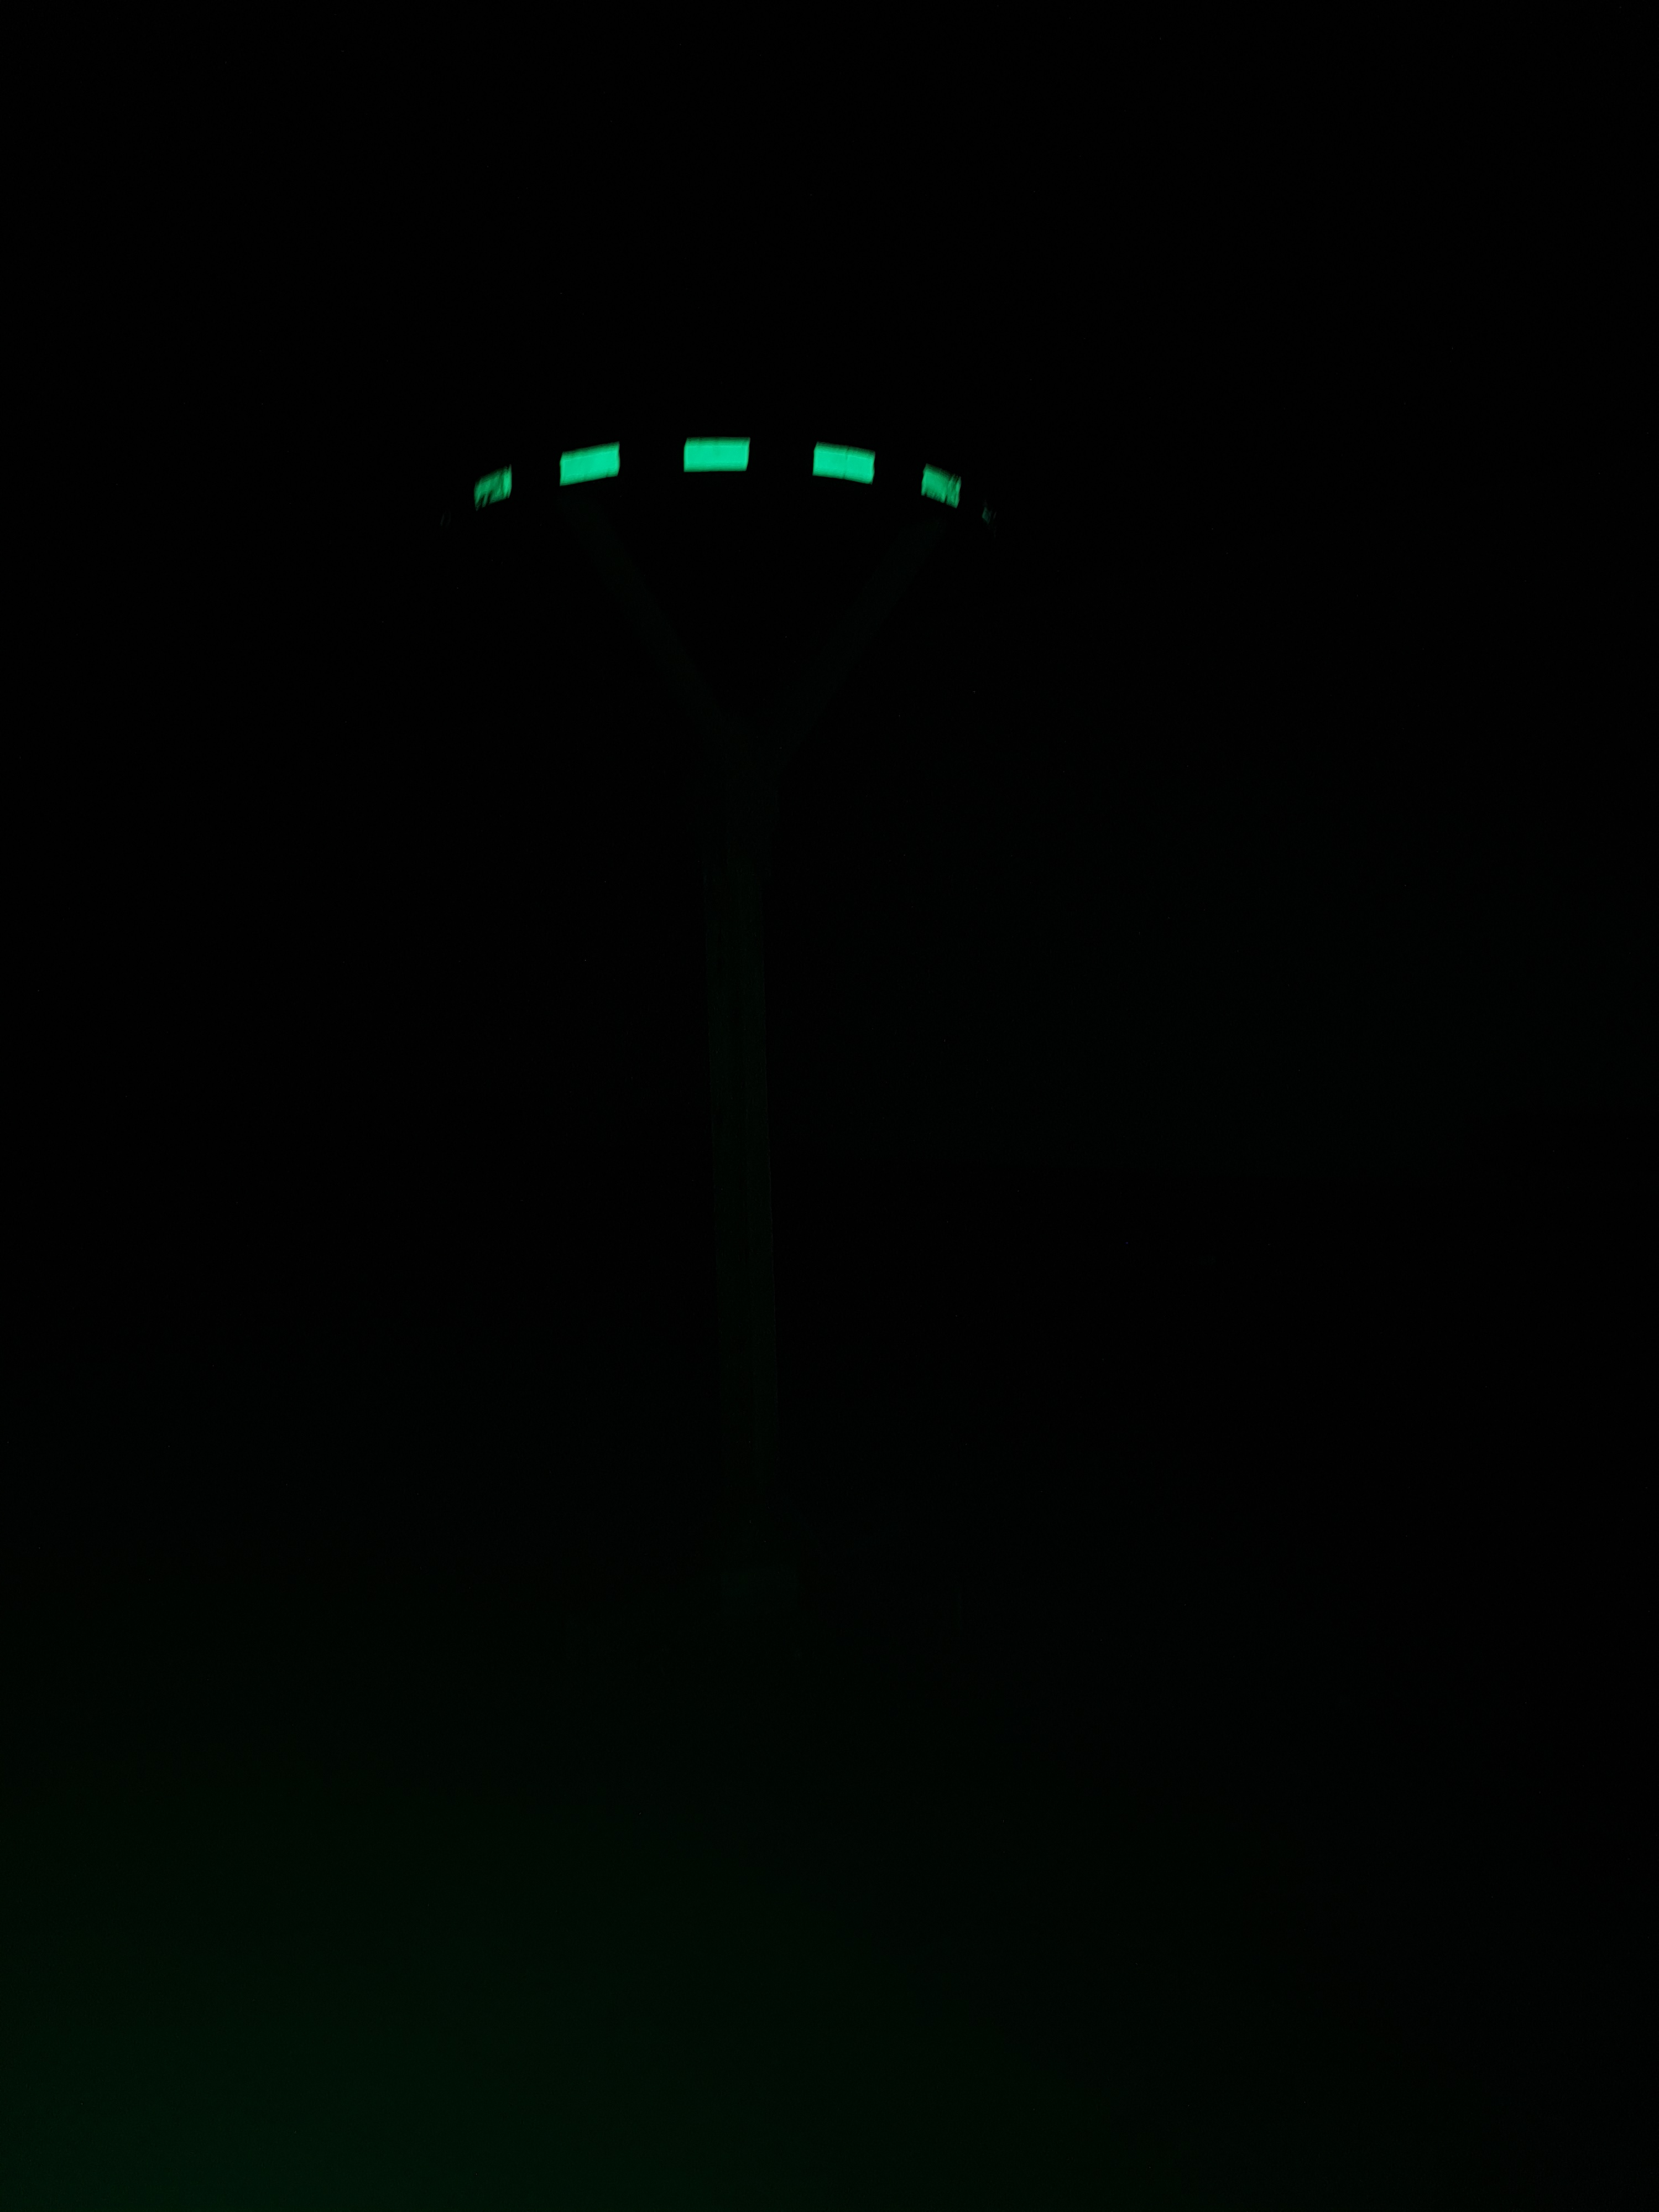hoop: (474, 437, 962, 516)
